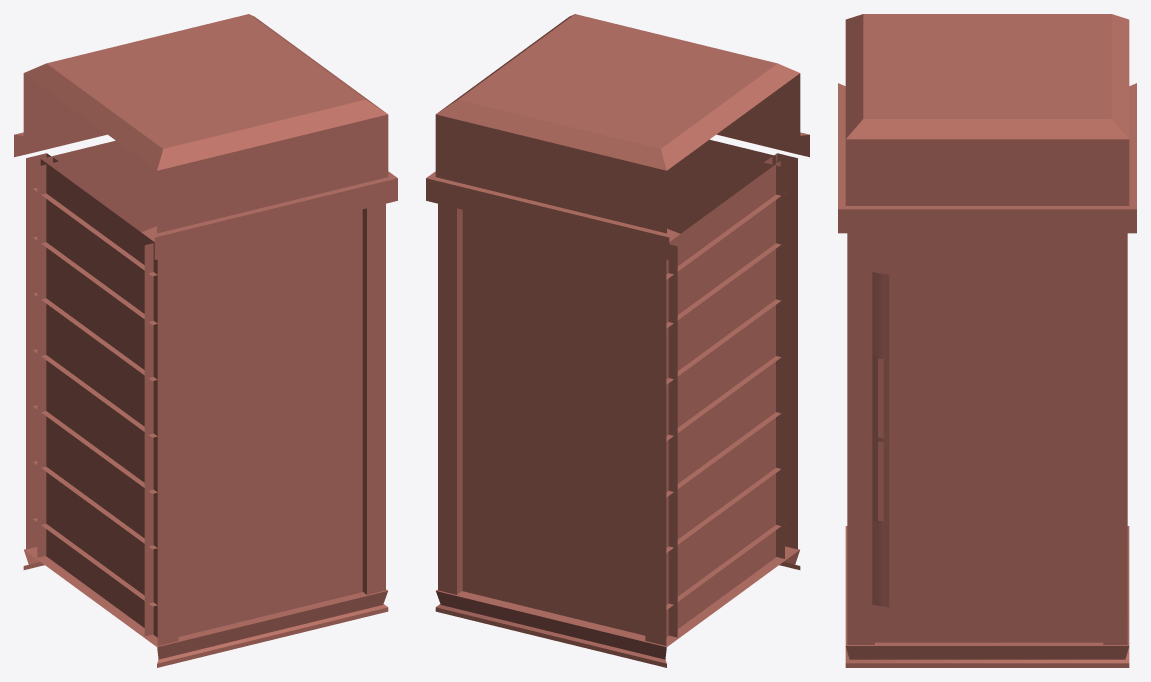
File: Pizza.fbx
3 views of the same model, side by side, from view 1: azimuth 30°, elevation 25°; view 2: azimuth 150°, elevation 25°; view 3: azimuth 270°, elevation 25° (orthographic). The views are drawn at different scales.
Parts seen in each view (by area): view 1: SmartCombine_4, pCube2_Ext_2, pCube2, pCube2_Ext_1, SmartCombine_1; view 2: SmartCombine_4, pCube2_Ext_2, pCube2, pCube2_Ext_1, SmartCombine_1; view 3: SmartCombine_4, pCube2_Ext_2, pCube2, pCube2_Ext_1, pCube3_Dup_2.
Part boxes in pixels (<box>): SmartCombine_4: <box>40,140,362,637</box>; pCube2_Ext_2: <box>14,14,397,259</box>; pCube2: <box>26,153,385,645</box>; pCube2_Ext_1: <box>23,547,388,667</box>; SmartCombine_1: <box>33,188,157,606</box>; SmartCombine_4: <box>462,139,780,637</box>; pCube2_Ext_2: <box>426,14,809,259</box>; pCube2: <box>438,153,797,645</box>; pCube2_Ext_1: <box>435,546,800,667</box>; SmartCombine_1: <box>666,192,785,609</box>; SmartCombine_4: <box>875,233,1103,642</box>; pCube2_Ext_2: <box>838,14,1136,233</box>; pCube2: <box>847,233,1127,644</box>; pCube2_Ext_1: <box>845,526,1129,667</box>; pCube3_Dup_2: <box>872,272,889,607</box>.
Bounding box in the file's own units: 1 × 2 × 1.
